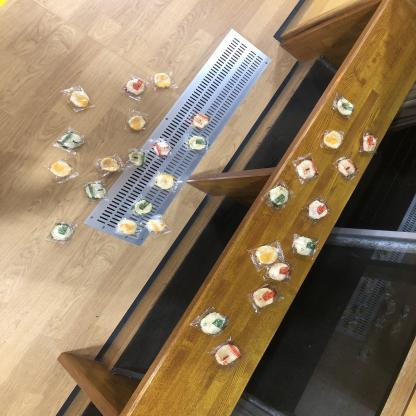green_setoshio: (192, 306, 230, 338), (44, 221, 80, 245), (263, 182, 293, 210), (56, 126, 88, 152), (327, 94, 357, 119), (290, 234, 320, 259), (81, 179, 110, 203), (125, 147, 150, 168), (186, 134, 211, 154), (132, 198, 154, 216)
red_setoshio: (209, 338, 244, 368), (247, 283, 283, 311), (332, 155, 363, 181), (303, 196, 330, 224), (292, 156, 320, 182), (266, 263, 298, 285), (122, 77, 148, 99), (358, 130, 381, 153), (187, 112, 214, 131), (152, 137, 174, 160)
yellow_setoshio: (251, 241, 286, 266), (64, 87, 95, 115), (44, 157, 75, 183), (123, 112, 149, 136), (95, 154, 124, 175), (146, 215, 172, 238), (320, 128, 345, 151), (152, 69, 178, 91), (114, 216, 140, 238), (151, 172, 178, 192)
